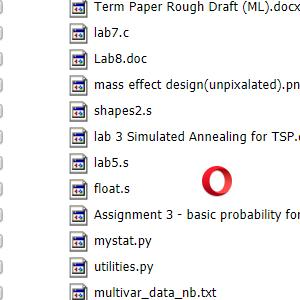opera: (202, 166, 232, 196)
